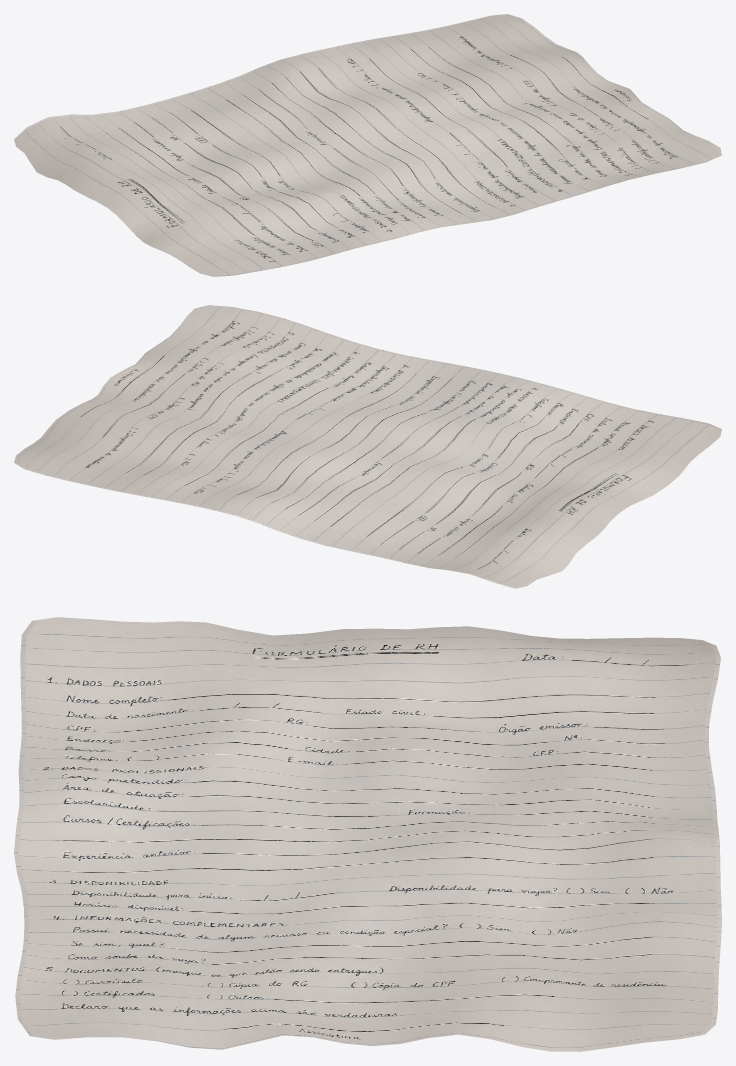
The model's file is Papel2.fbx.
3 views of the same model, one above another, from view 1: azimuth 30°, elevation 25°; view 2: azimuth 150°, elevation 25°; view 3: azimuth 270°, elevation 25° (orthographic). The views are drawn at different scales.
Visible parts, largest first — view 1: Papel2; view 2: Papel2; view 3: Papel2.
Part boxes in pixels (box(x1,y1,x2,y2)): Papel2: box(14, 14, 721, 276); Papel2: box(14, 305, 721, 588); Papel2: box(14, 617, 721, 1051).
Size of the model in its own units: 203 by 6.68 by 143.
Materials: 1 (1 with a texture image).
